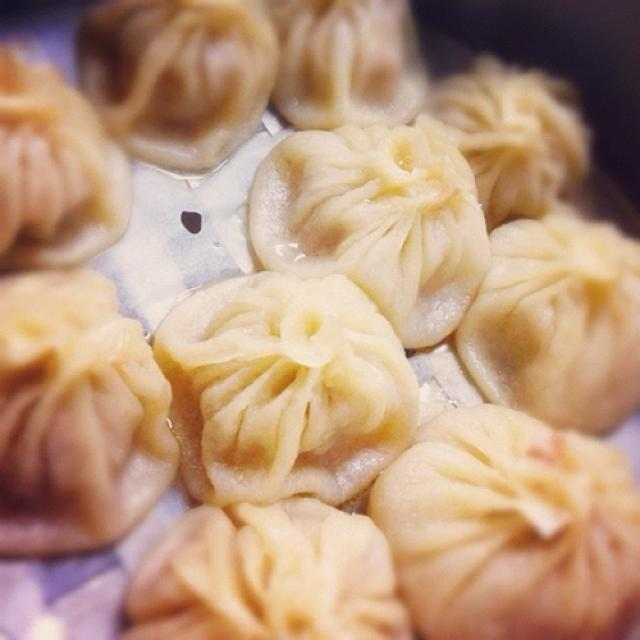带馅早点: (8, 10, 609, 621)
